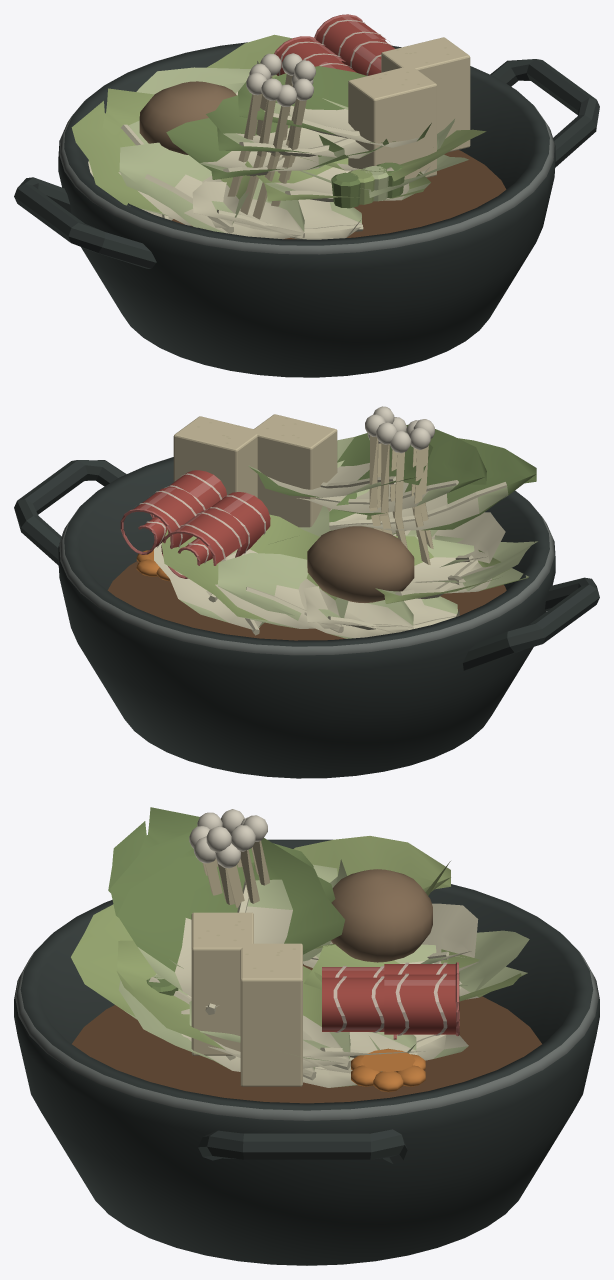
Rendered from pot.glb.
3 renders of one model, top to bottom at view 1: azimuth 30°, elevation 25°; view 2: azimuth 150°, elevation 25°; view 3: azimuth 270°, elevation 25°, orthographic. The views are drawn at different scales.
Visible parts, largest first — view 1: Waraku_pot; view 2: Waraku_pot; view 3: Waraku_pot.
Part boxes in pixels (<box>): Waraku_pot: <box>14,14,599,377</box>; Waraku_pot: <box>14,406,599,778</box>; Waraku_pot: <box>14,807,599,1265</box>.
Bounding box in the file's own units: 0.2663 × 0.137 × 0.216.
